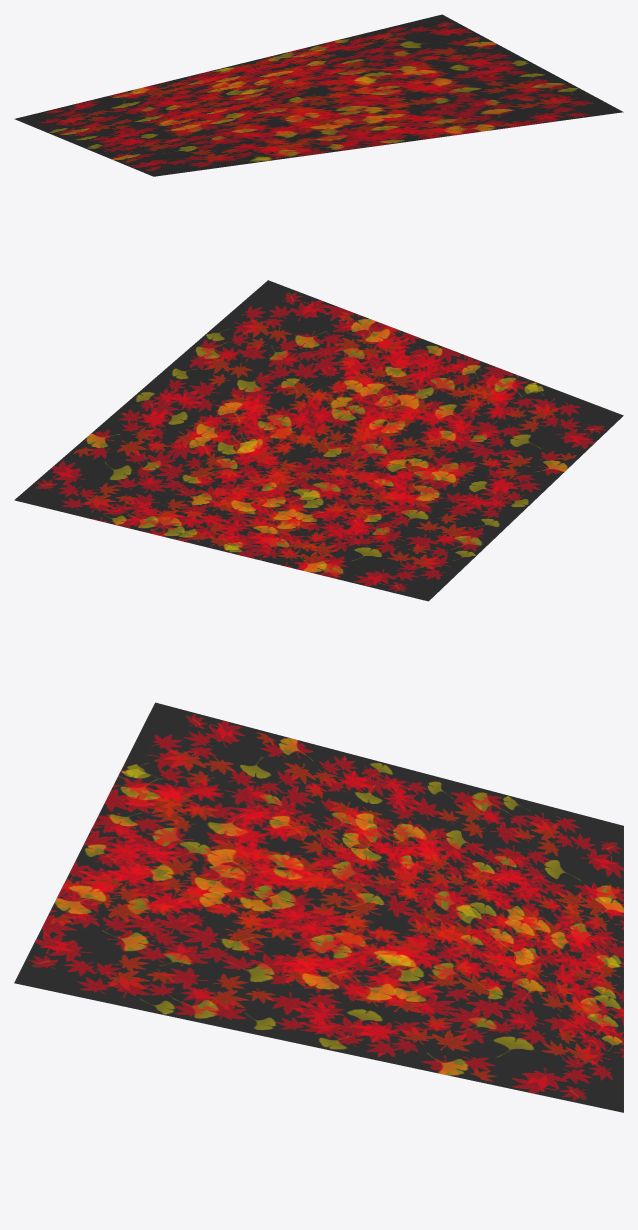
The model's file is CourseAki_CurveFloor_2_10.fbx.
3 views of the same model, one above another, from view 1: azimuth 30°, elevation 25°; view 2: azimuth 150°, elevation 25°; view 3: azimuth 270°, elevation 25° (orthographic). The views are drawn at different scales.
Visible parts, largest first — view 1: polySurface448; view 2: polySurface448; view 3: polySurface448.
Boxes of the visible parts, box(x1,y1,x2,y2) form: polySurface448: box(14, 14, 623, 176); polySurface448: box(14, 280, 623, 601); polySurface448: box(14, 702, 623, 1112).
Bounding box in the file's own units: 6.44 × 2 × 5.39.
Materials: 1 (1 with a texture image).
